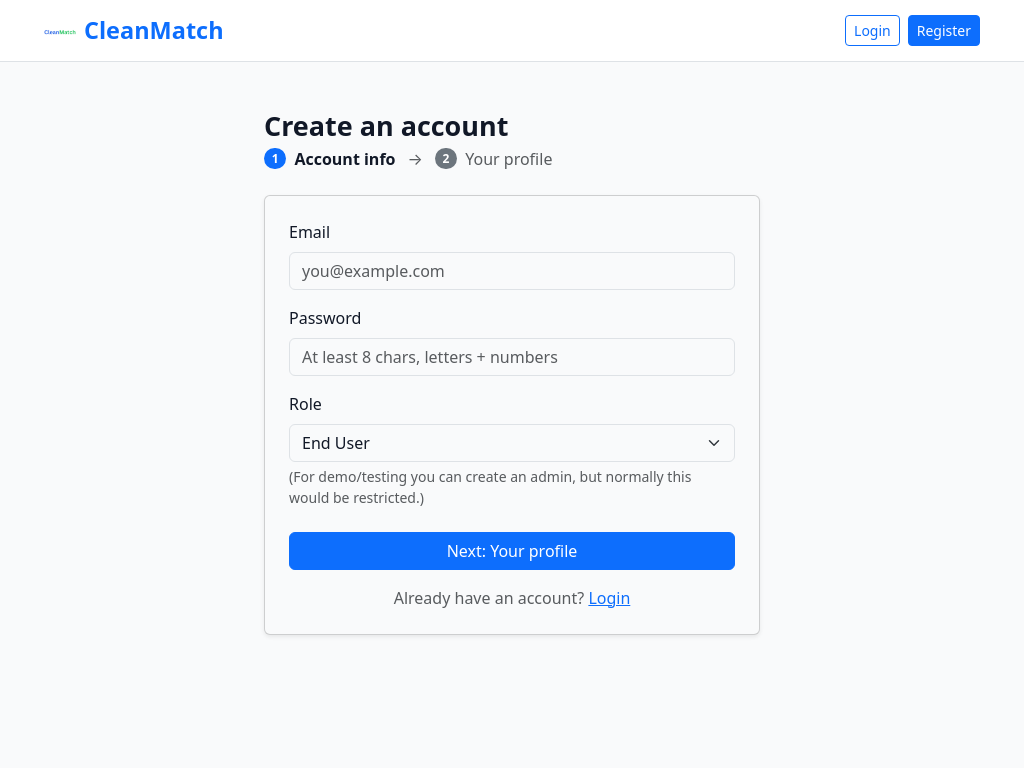
Test case: RegisterPage › shows error when invalid email is submitted
In the field: (512, 270) [289, 252, 735, 290], type "not-an-email"
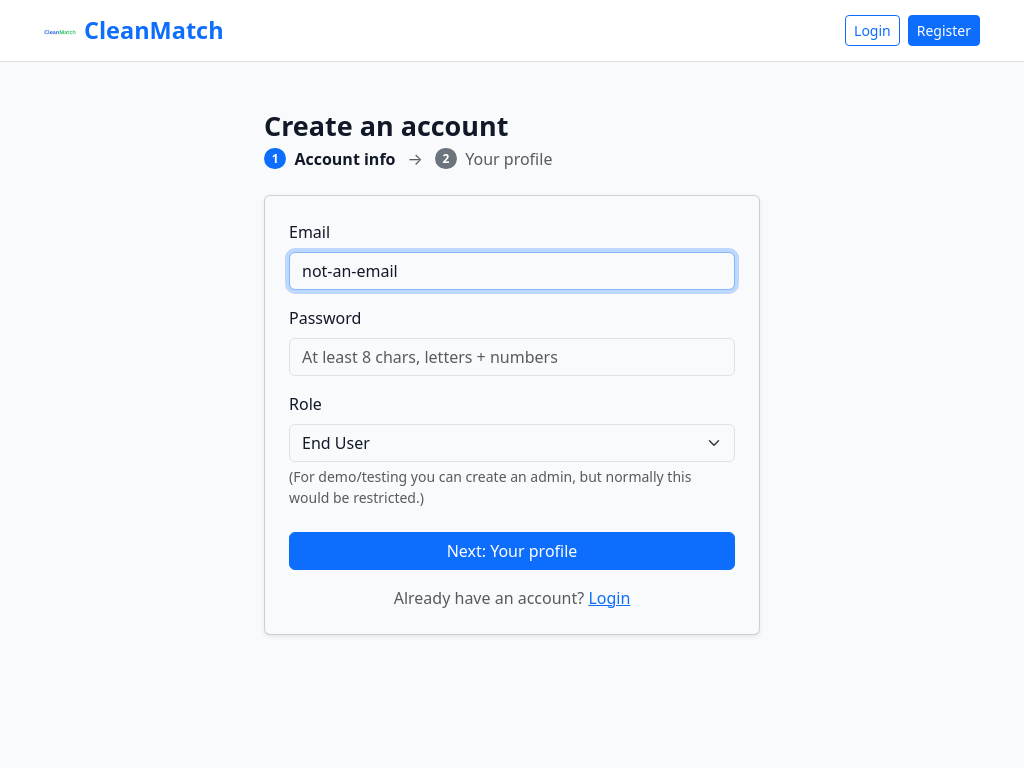
In the password field with placeholder "At least 8 chars, letters + numbers": (512, 356) [289, 338, 735, 376], type "Password1"
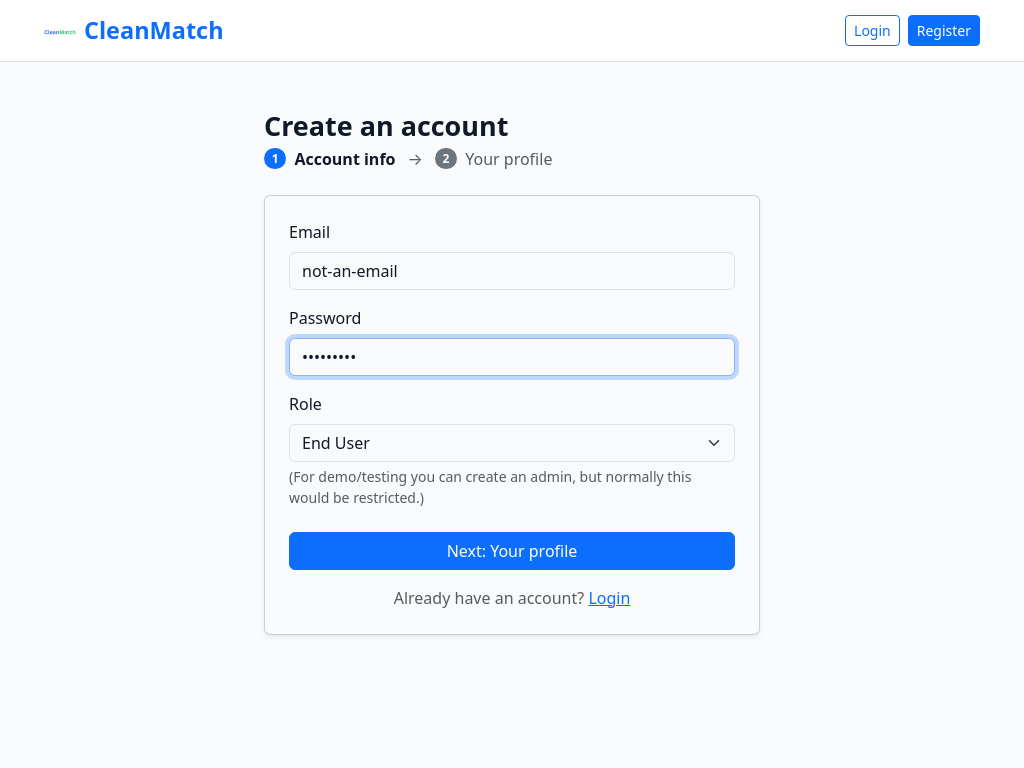
Submit the form, box [264, 194, 760, 634]
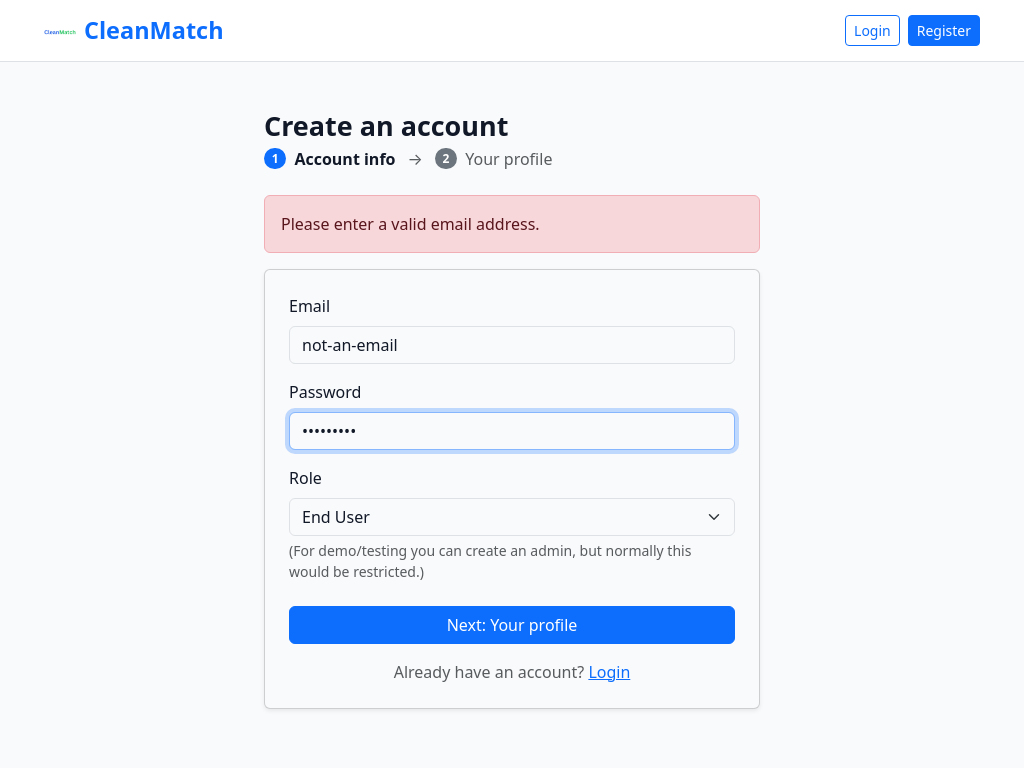
Expected: the text "Please enter a valid email address." is shown, [264, 194, 760, 252]
